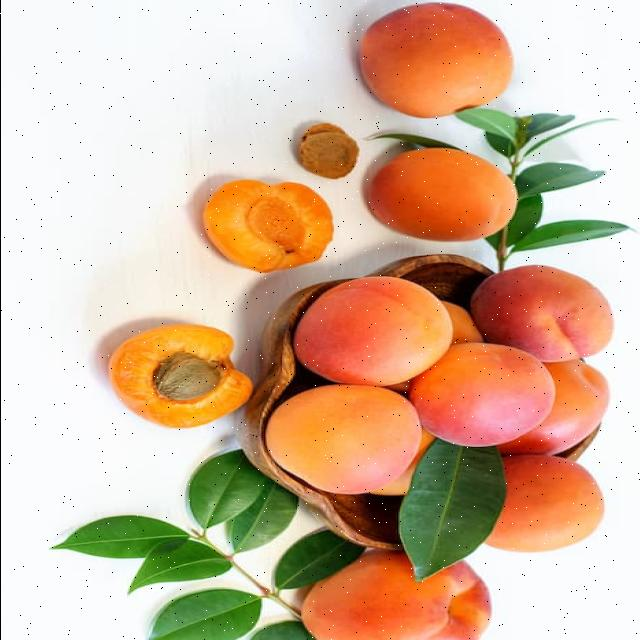Cekirdek: (155, 353, 225, 399)
Kayisi: (359, 3, 513, 117), (293, 276, 451, 386), (266, 384, 421, 494), (410, 343, 554, 446), (470, 265, 613, 362), (367, 147, 515, 240), (203, 180, 332, 272)
Yaprak: (399, 438, 504, 580), (190, 450, 267, 528), (55, 515, 190, 558), (130, 539, 232, 592), (510, 219, 632, 251), (517, 162, 604, 202)
